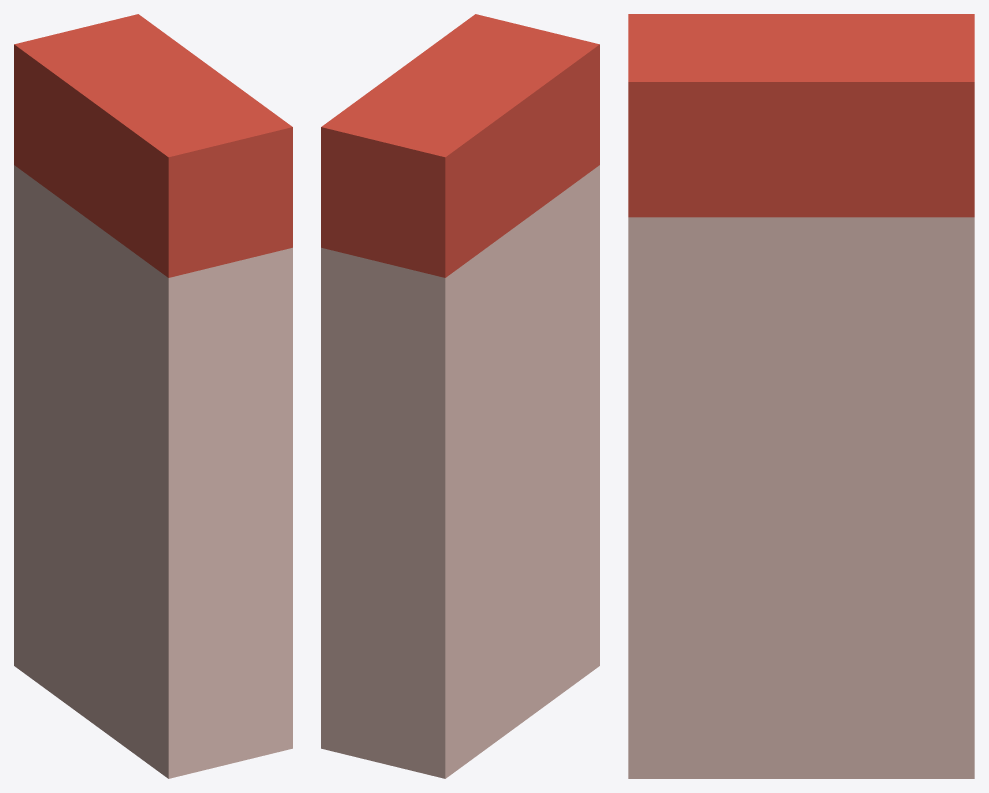
Rendered from Map_Wall.fbx.
The picture shows the model from 3 angles, left to right: view 1: azimuth 30°, elevation 25°; view 2: azimuth 150°, elevation 25°; view 3: azimuth 270°, elevation 25°; orthographic projection. The views are drawn at different scales.
Parts seen in each view (by area): view 1: Map_Wall; view 2: Map_Wall; view 3: Map_Wall.
Boxes of the visible parts, x1,y1,x2,y2 form: Map_Wall: (14, 14, 292, 778); Map_Wall: (321, 14, 599, 778); Map_Wall: (628, 14, 974, 778).
Size of the model in its own units: 2.21 by 10.56 by 4.75.
